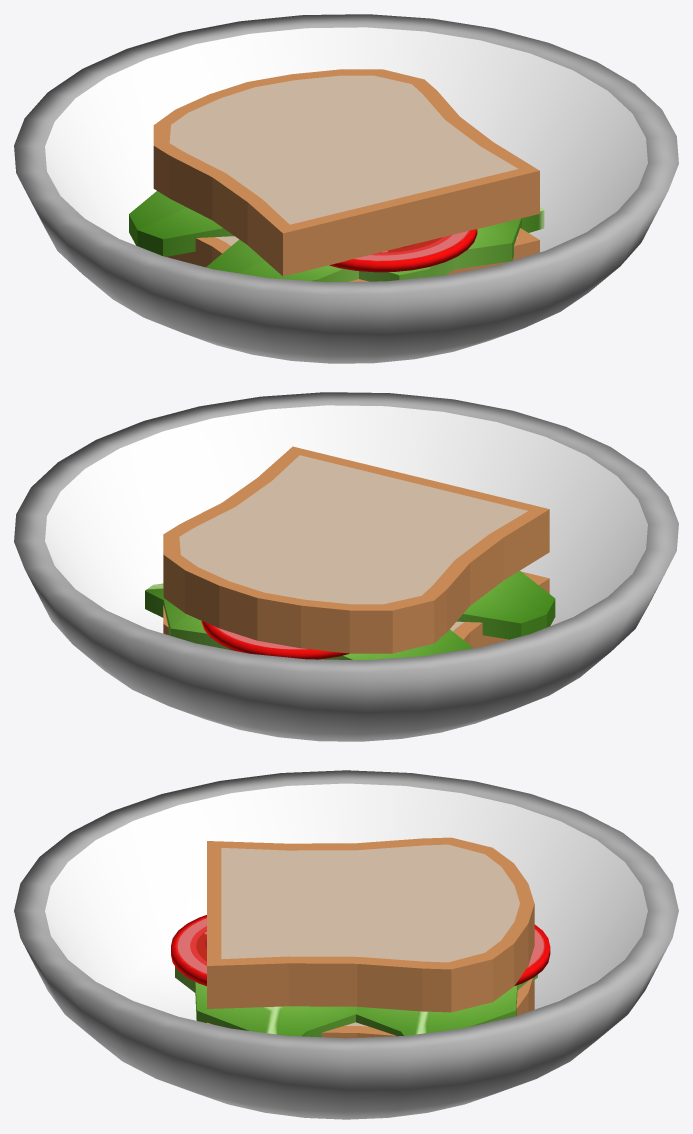
Rendered from Sandwich.fbx.
3 renders of one model, top to bottom at view 1: azimuth 30°, elevation 25°; view 2: azimuth 150°, elevation 25°; view 3: azimuth 270°, elevation 25°, orthographic.
Visible parts, largest first — view 1: SandwichPlate, SandwichBread, SandwichLettuce, SandwichTomato; view 2: SandwichPlate, SandwichBread, SandwichLettuce, SandwichTomato; view 3: SandwichPlate, SandwichBread, SandwichLettuce, SandwichTomato.
Boxes of the visible parts, left/top/right/bottom form: SandwichPlate: left=14, top=14, right=678, bottom=363; SandwichBread: left=153, top=69, right=539, bottom=281; SandwichLettuce: left=129, top=191, right=544, bottom=282; SandwichTomato: left=329, top=229, right=477, bottom=272; SandwichPlate: left=14, top=392, right=678, bottom=741; SandwichBread: left=163, top=446, right=549, bottom=653; SandwichLettuce: left=145, top=571, right=555, bottom=660; SandwichTomato: left=201, top=621, right=349, bottom=659; SandwichPlate: left=14, top=770, right=678, bottom=1119; SandwichBread: left=207, top=837, right=534, bottom=1038; SandwichLettuce: left=175, top=966, right=537, bottom=1037; SandwichTomato: left=171, top=915, right=550, bottom=986.
Size of the model in its own units: 31.83 by 6.54 by 31.83.
